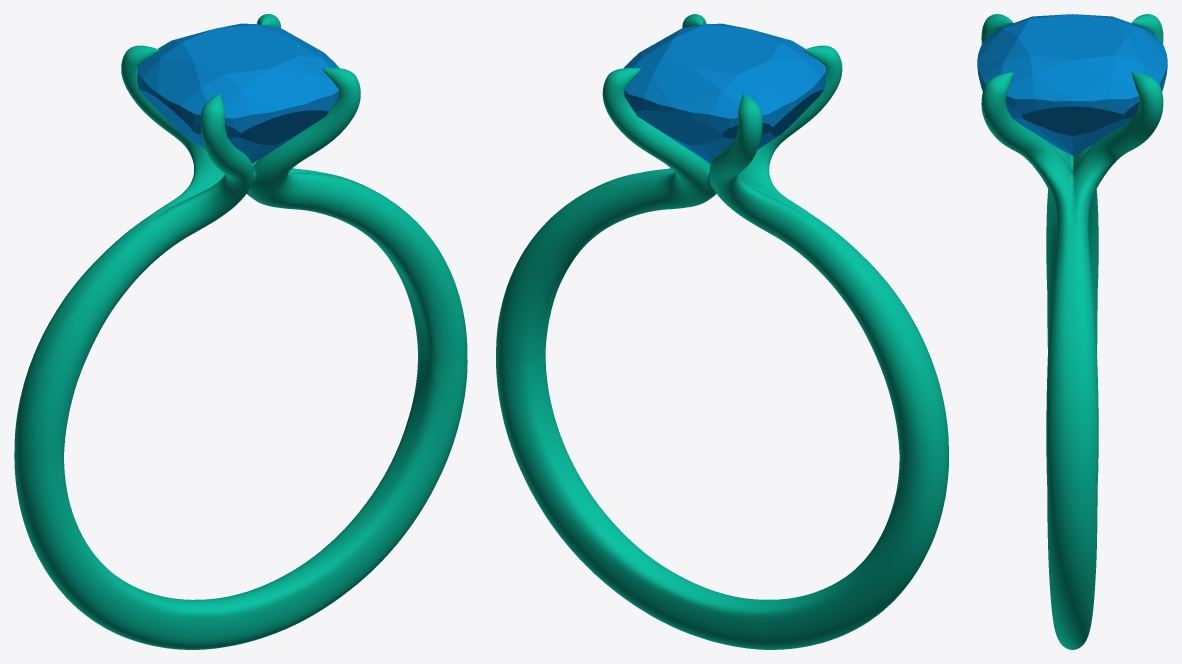
The model's file is BE1343_CU_200ct_RENDER.glb.
The picture shows the model from 3 angles, left to right: view 1: azimuth 30°, elevation 25°; view 2: azimuth 150°, elevation 25°; view 3: azimuth 270°, elevation 25°; orthographic projection.
Parts seen in each view (by area): view 1: Metal 01, CS_Diamond_Cushion Square; view 2: Metal 01, CS_Diamond_Cushion Square; view 3: Metal 01, CS_Diamond_Cushion Square.
Boxes of the visible parts, x1,y1,x2,y2 form: Metal 01: [14, 14, 467, 649]; CS_Diamond_Cushion Square: [137, 23, 339, 163]; Metal 01: [496, 14, 948, 649]; CS_Diamond_Cushion Square: [624, 23, 825, 163]; Metal 01: [981, 14, 1163, 649]; CS_Diamond_Cushion Square: [977, 14, 1167, 155].
Size of the model in its own units: 20.1 by 25.58 by 7.5.
